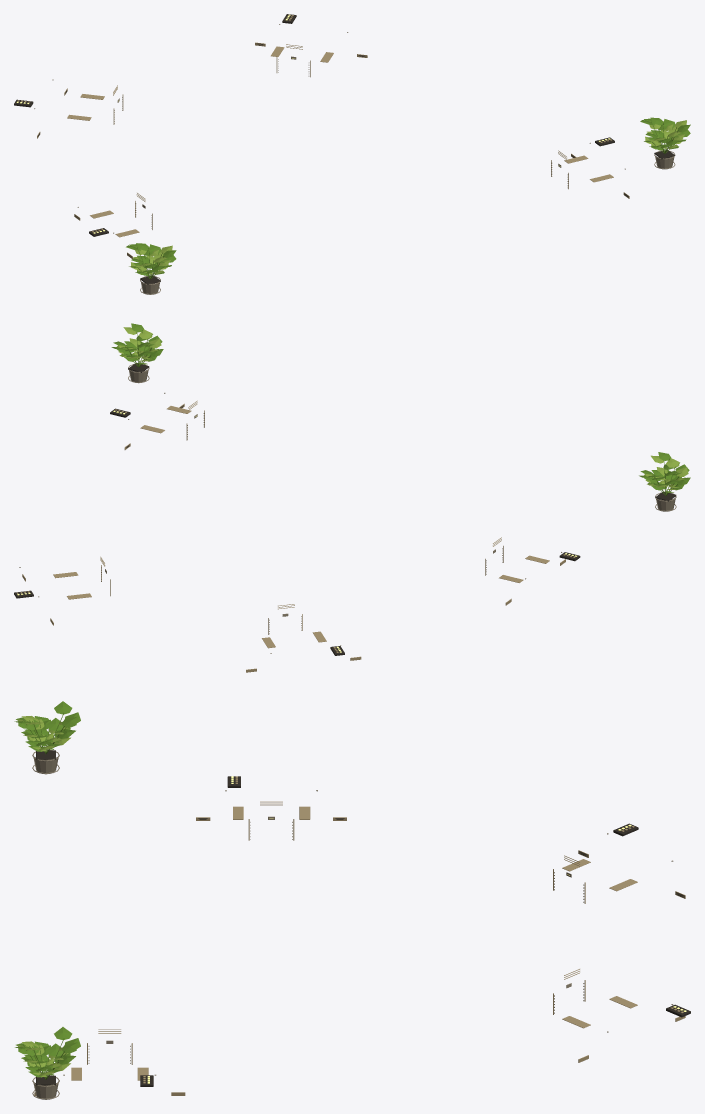
The model's file is cruz-del-sur-furnishings.glb.
3 views of the same model, one above another, from view 1: azimuth 30°, elevation 25°; view 2: azimuth 150°, elevation 25°; view 3: azimuth 270°, elevation 25° (orthographic). The views are drawn at different scales.
Parts seen in each view (by area): view 1: FURNISH_Leaf.004, FURNISH_Ivory.004, FURNISH_Leaf light.004, FURNISH_Graphite.004, FURNISH_Metal.004; view 2: FURNISH_Leaf.004, FURNISH_Ivory.004, FURNISH_Leaf light.004, FURNISH_Graphite.004, FURNISH_Metal.004; view 3: FURNISH_Leaf.004, FURNISH_Ivory.004, FURNISH_Leaf light.004, FURNISH_Graphite.004, FURNISH_Metal.004.
Boxes of the visible parts, x1=… form: FURNISH_Leaf.004: x1=126, y1=117, x2=690, y2=279; FURNISH_Ivory.004: x1=17, y1=15, x2=629, y2=258; FURNISH_Leaf light.004: x1=131, y1=120, x2=686, y2=274; FURNISH_Graphite.004: x1=14, y1=14, x2=675, y2=284; FURNISH_Metal.004: x1=34, y1=24, x2=675, y2=294; FURNISH_Leaf.004: x1=111, y1=323, x2=690, y2=495; FURNISH_Ivory.004: x1=16, y1=400, x2=575, y2=672; FURNISH_Leaf light.004: x1=116, y1=327, x2=688, y2=490; FURNISH_Graphite.004: x1=14, y1=363, x2=676, y2=655; FURNISH_Metal.004: x1=19, y1=364, x2=676, y2=653; FURNISH_Leaf.004: x1=14, y1=701, x2=80, y2=1079; FURNISH_Ivory.004: x1=34, y1=776, x2=685, y2=1095; FURNISH_Leaf light.004: x1=17, y1=716, x2=70, y2=1076; FURNISH_Graphite.004: x1=36, y1=750, x2=690, y2=1086; FURNISH_Metal.004: x1=32, y1=749, x2=673, y2=1099.
Bounding box in the file's own units: 8.8 × 0.962 × 7.12.
